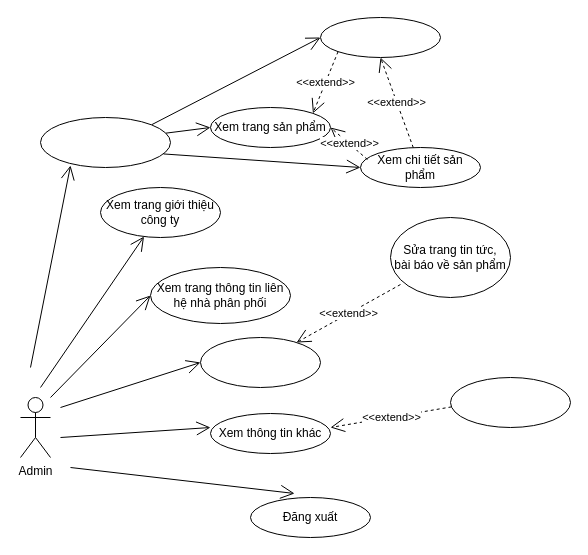
This 588x555 diagram has some shape labels left out. Here are the shapes that lost their labels. From the top down, the centre of each, then its label:
the point at 380,37: Tìm kiếm sản phẩm
the point at 105,142: Xem sản phẩm
the point at 260,362: Xem trang tin tức, bài báo về sản phẩm
the point at 510,402: Sửa thông tin khác
